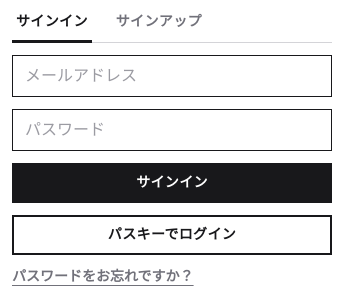
サインアップタブへ切り替えると名前フィールド（必須）を表示する
Click the tab "サインアップ" at (159, 28), box [112, 12, 206, 43]
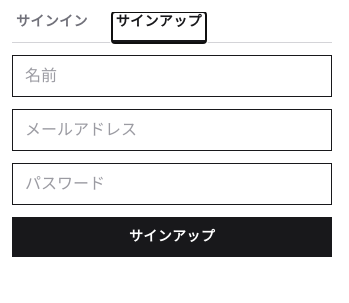
Expected: the button "サインアップ" is shown, [12, 217, 332, 257]
